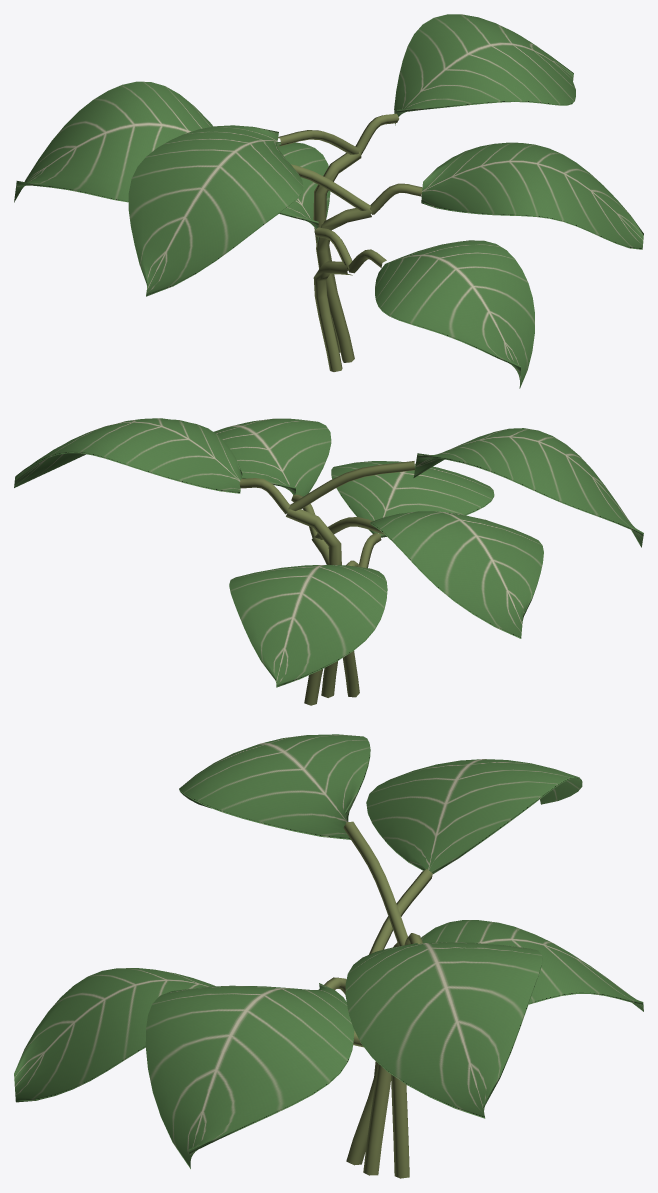
Rendered from fittonia-stage-1.glb.
3 views of the same model, one above another, from view 1: azimuth 30°, elevation 25°; view 2: azimuth 150°, elevation 25°; view 3: azimuth 270°, elevation 25° (orthographic). The views are drawn at different scales.
Visible parts, largest first — view 1: Leaf_5, Leaf_0, Leaf_2, Leaf_4, Leaf_3, PlantBranches, Leaf_1; view 2: Leaf_1, Leaf_3, Leaf_4, Leaf_5, Leaf_0, Leaf_2, PlantBranches; view 3: Leaf_2, Leaf_4, Leaf_3, Leaf_5, Leaf_0, PlantBranches, Leaf_1.
Part boxes in pixels (x1,y1,x2,y2): Leaf_5: (128,125,303,296); Leaf_0: (375,240,534,388); Leaf_2: (421,142,643,249); Leaf_4: (394,14,575,125); Leaf_3: (14,81,213,202); PlantBranches: (278,113,422,371); Leaf_1: (277,142,330,241); Leaf_1: (229,565,387,687); Leaf_3: (370,511,543,638); Leaf_4: (14,418,242,493); Leaf_5: (413,428,643,547); Leaf_0: (331,461,494,537); Leaf_2: (214,418,331,496); PlantBranches: (239,461,415,705); Leaf_2: (145,983,354,1168); Leaf_4: (345,942,542,1118); Leaf_3: (366,759,582,873); Leaf_5: (179,734,370,839); Leaf_0: (14,968,215,1102); PlantBranches: (324,821,432,1178); Leaf_1: (421,920,643,1011).
Size of the model in its own units: 1.09 by 0.5312 by 0.9037.
2 materials, 1 textured.
